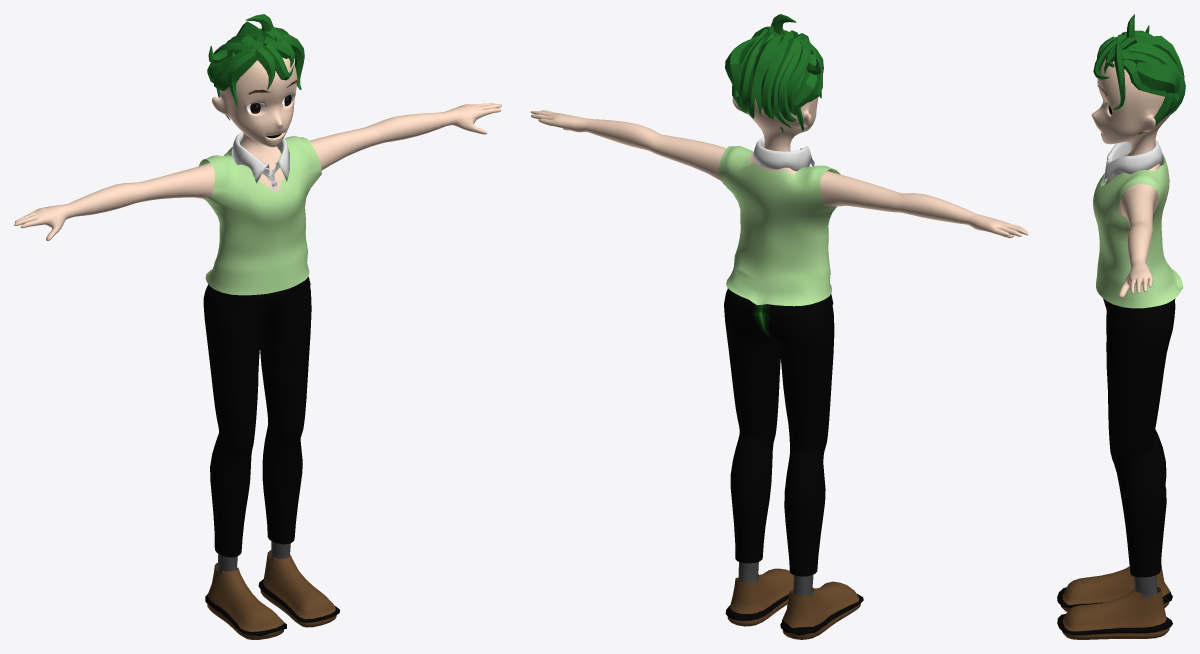
File: greenGuy.fbx
The picture shows the model from 3 angles, left to right: view 1: azimuth 30°, elevation 25°; view 2: azimuth 150°, elevation 25°; view 3: azimuth 270°, elevation 25°; orthographic projection. The views are drawn at different scales.
Visible parts, largest first — view 1: jeans.002, body.002, sweater.002, shoes.002, NurbsPath.002, collar.002; view 2: jeans.002, sweater.002, body.002, NurbsPath.002, shoes.002, collar.002; view 3: jeans.002, body.002, sweater.002, shoes.002, NurbsPath.002, collar.002.
Boxes of the visible parts, x1,y1,x2,y2 form: jeans.002: (203, 277, 311, 557); body.002: (14, 57, 501, 575); sweater.002: (199, 136, 321, 295); shoes.002: (205, 550, 339, 639); NurbsPath.002: (207, 14, 304, 120); collar.002: (232, 132, 289, 192); jeans.002: (724, 288, 834, 576); sweater.002: (719, 146, 840, 306); body.002: (530, 97, 1028, 595); NurbsPath.002: (725, 14, 823, 131); shoes.002: (725, 568, 863, 639); collar.002: (752, 137, 814, 171); jeans.002: (1103, 298, 1175, 577); body.002: (1091, 58, 1170, 597); sweater.002: (1093, 140, 1183, 308); shoes.002: (1057, 564, 1172, 639); NurbsPath.002: (1093, 14, 1185, 134); collar.002: (1103, 140, 1163, 184).
Size of the model in its own units: 157 by 183 by 35.51.
Materials: 8 (4 with a texture image).
